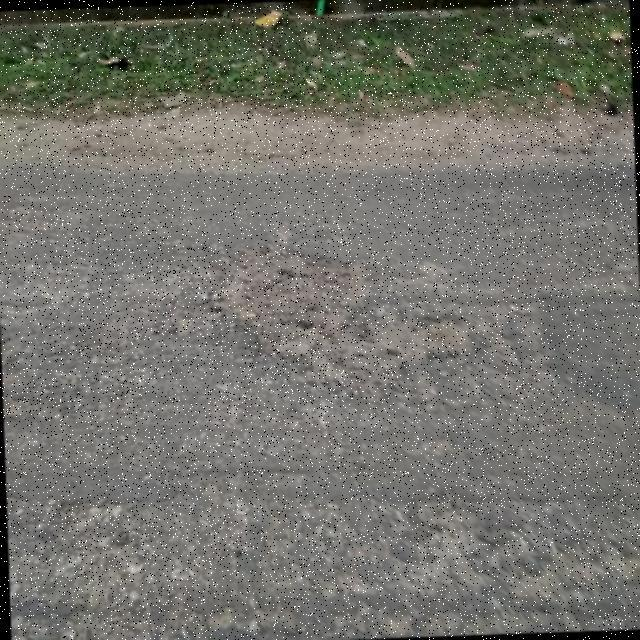Pothole: (206, 245, 475, 406)
